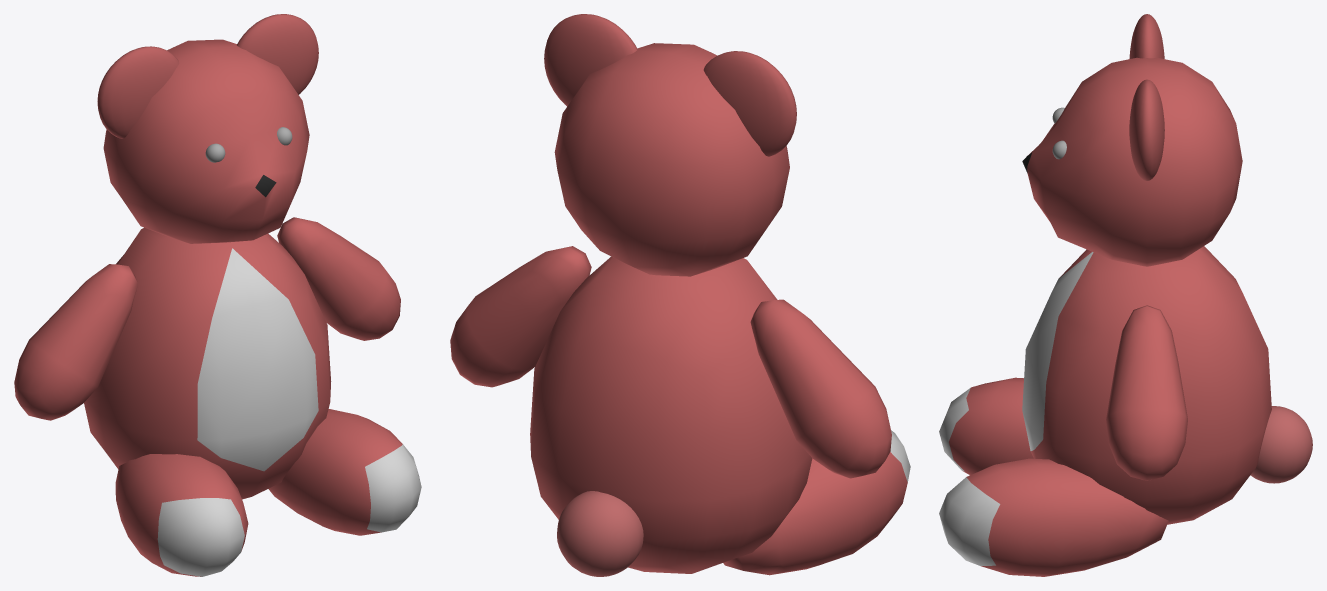
The model's file is ぬいぐるみ.fbx.
3 renders of one model, left to right at view 1: azimuth 30°, elevation 25°; view 2: azimuth 150°, elevation 25°; view 3: azimuth 270°, elevation 25°, orthographic. The views are drawn at different scales.
Parts seen in each view (by area): view 1: group5_pasted__pSphere1; view 2: group5_pasted__pSphere1; view 3: group5_pasted__pSphere1.
Part boxes in pixels (left/top/right/bottom): group5_pasted__pSphere1: left=14, top=14, right=421, bottom=576; group5_pasted__pSphere1: left=450, top=14, right=910, bottom=576; group5_pasted__pSphere1: left=939, top=14, right=1312, bottom=576.
Bounding box in the file's own units: 3.93 × 4.7 × 3.33.
